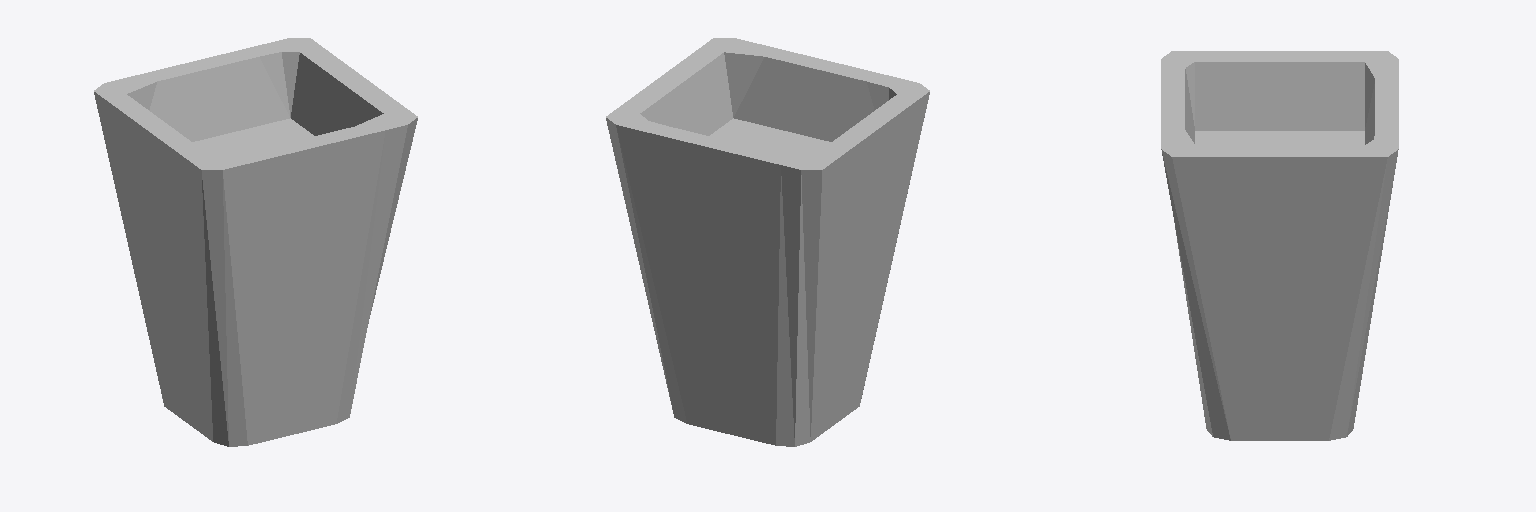
Rendered from flowerpot.obj.
3 views of the same model, side by side, from view 1: azimuth 30°, elevation 25°; view 2: azimuth 150°, elevation 25°; view 3: azimuth 270°, elevation 25° (orthographic).
Visible parts, largest first — view 1: Flowerpot; view 2: Flowerpot; view 3: Flowerpot.
Boxes of the visible parts, x1,y1,x2,y2 form: Flowerpot: [94, 38, 417, 446]; Flowerpot: [606, 38, 929, 446]; Flowerpot: [1161, 51, 1398, 440].
Bounding box in the file's own units: 0.6751 × 0.904 × 0.6398.